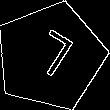L_SW: (23, 27, 78, 86)
